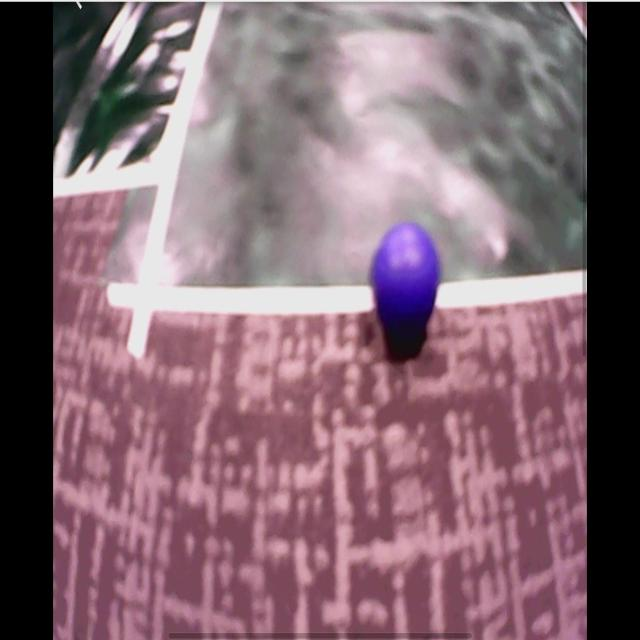ball: (374, 222, 440, 333)
